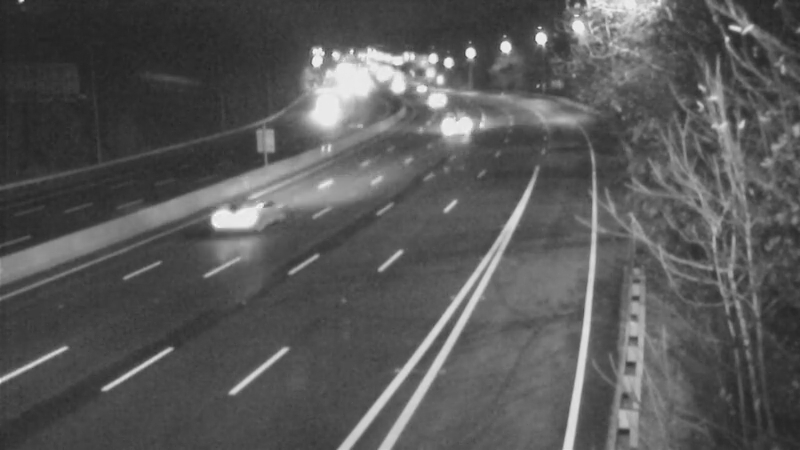vehicle: (192, 182, 272, 262), (397, 63, 447, 113), (412, 75, 462, 125), (428, 100, 478, 150)
